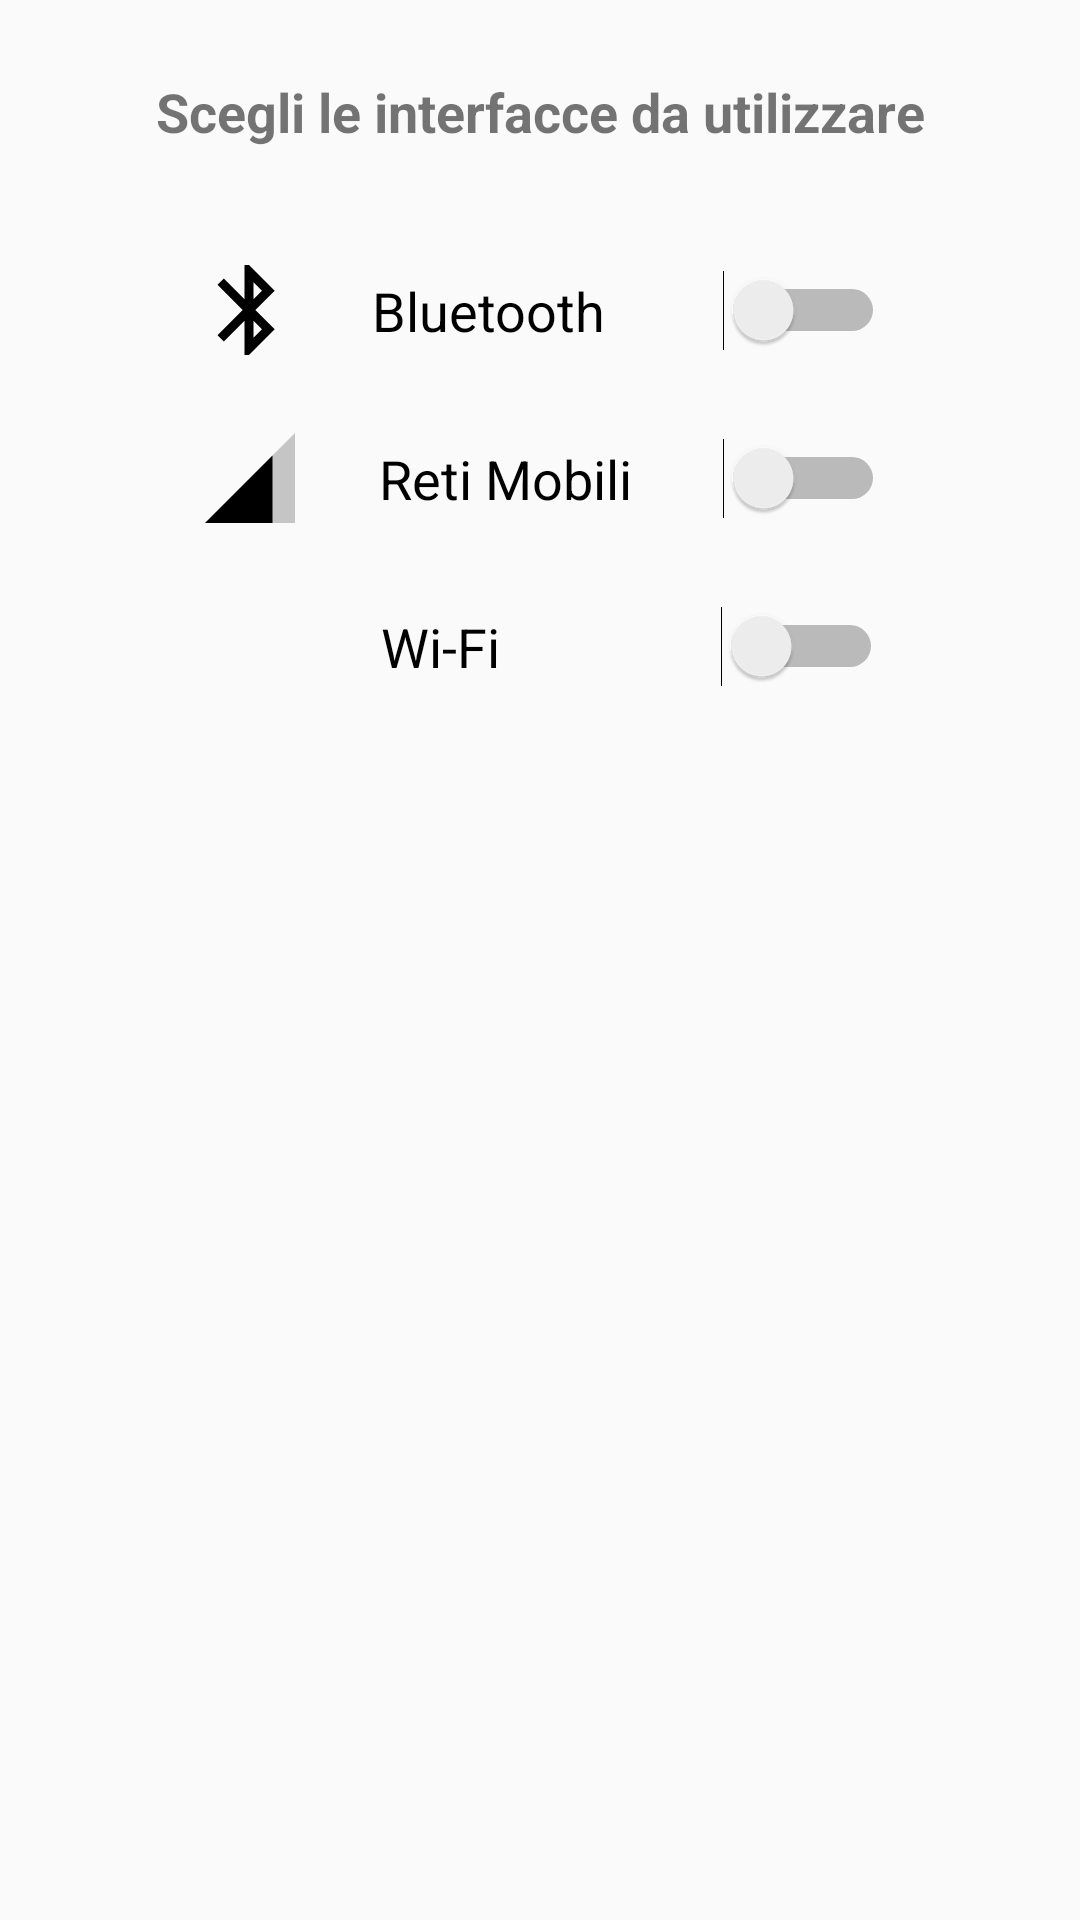

Where icons sit on this 1080x1920 app screen, as rect(x1, y1, x2, y2):
network cell: rect(205, 433, 295, 523)
